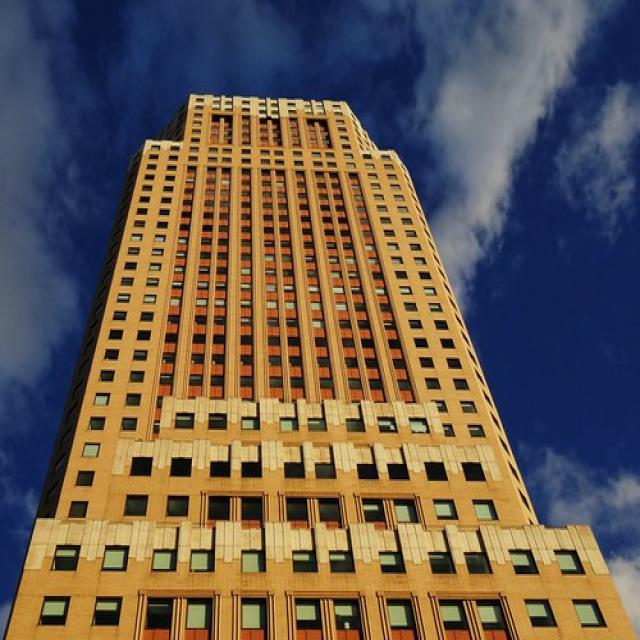building: (11, 78, 635, 638)
